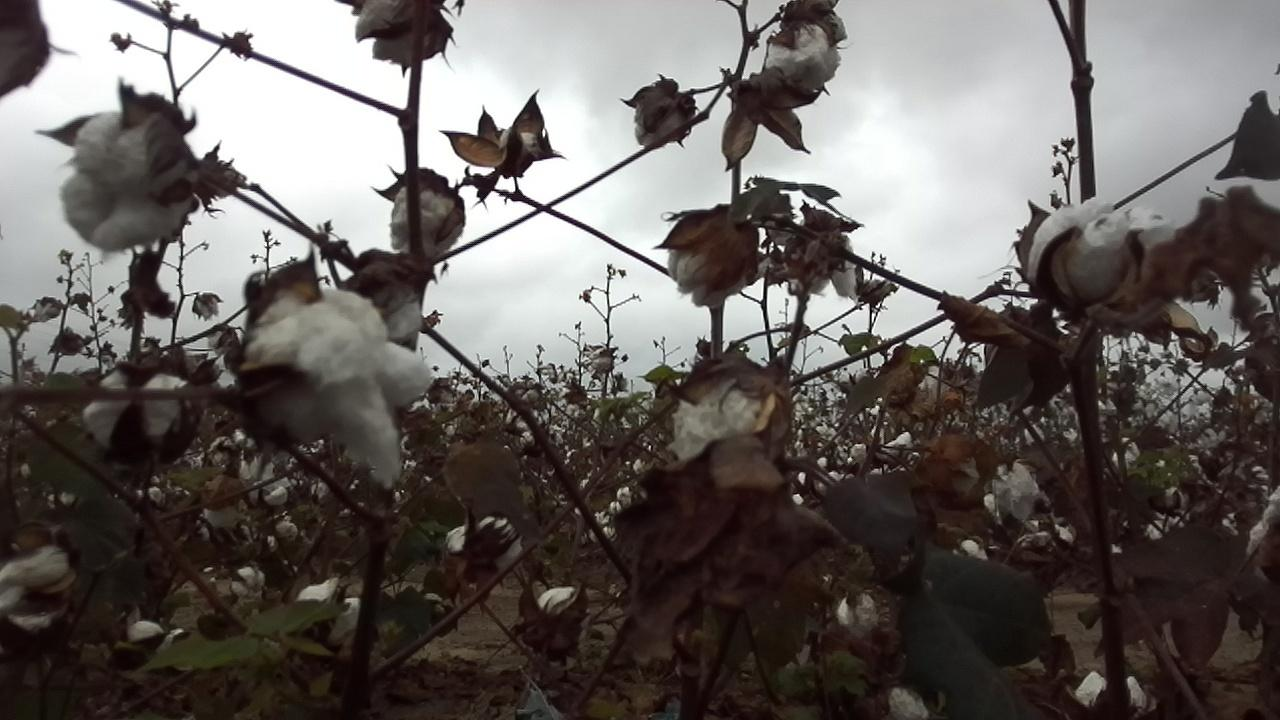cotton_ready: (253, 292, 432, 485), (57, 114, 180, 257), (1026, 202, 1174, 310), (85, 372, 194, 453), (674, 387, 772, 467), (0, 550, 72, 638), (669, 230, 750, 307), (762, 246, 862, 301), (393, 184, 459, 257), (764, 22, 839, 86), (478, 97, 540, 174), (299, 582, 359, 653), (0, 10, 44, 97), (447, 516, 525, 563), (119, 625, 185, 679), (988, 459, 1039, 526), (1074, 672, 1145, 720), (357, 0, 412, 60), (835, 585, 885, 646), (635, 100, 690, 152), (1248, 485, 1280, 570), (536, 586, 586, 626), (890, 689, 933, 720)
